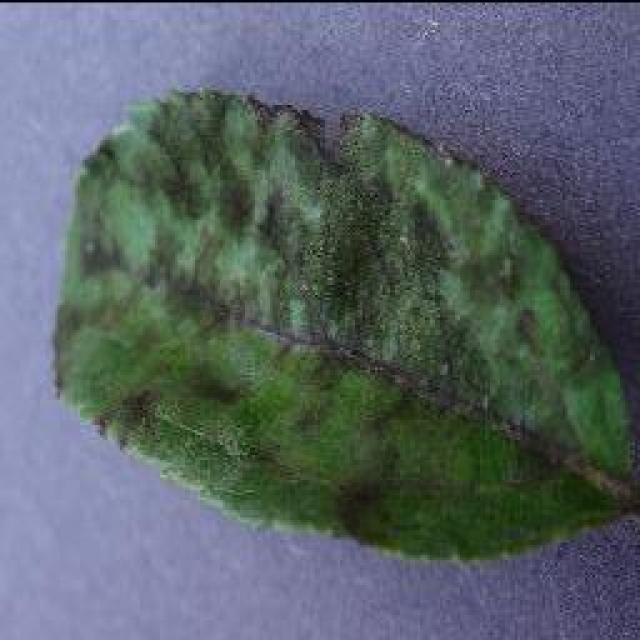apple scab disease: (50, 83, 638, 565)
